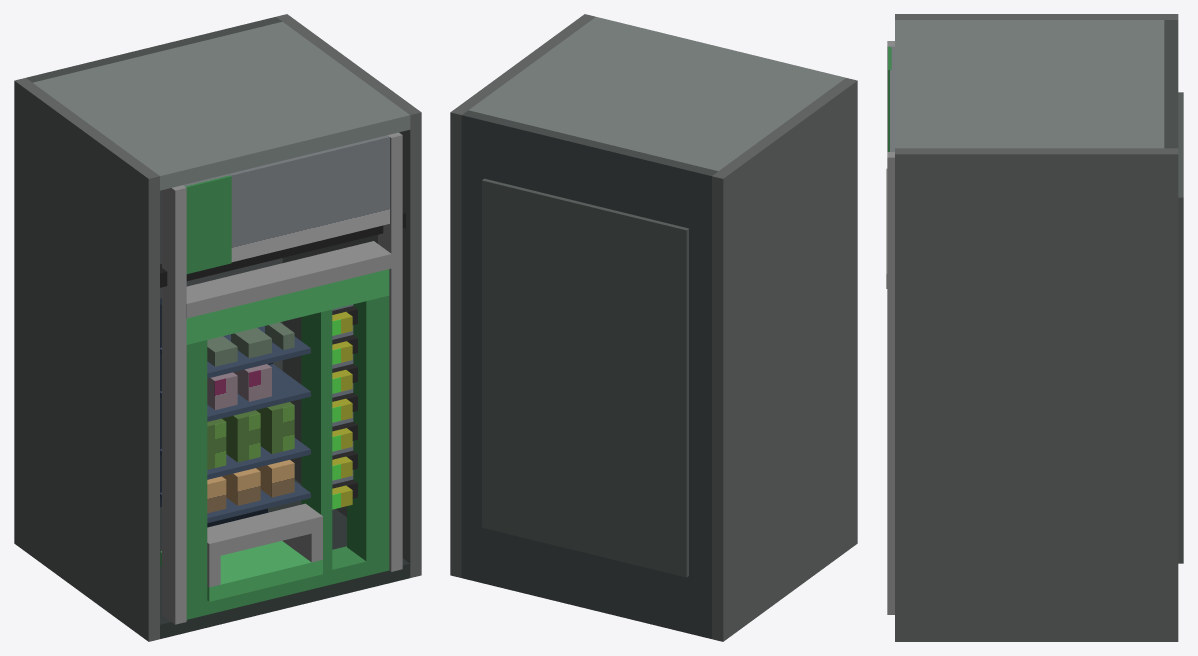
File: CMU3DVendorSeedsCloud.glb
3 views of the same model, side by side, from view 1: azimuth 30°, elevation 25°; view 2: azimuth 150°, elevation 25°; view 3: azimuth 270°, elevation 25° (orthographic). The views are drawn at different scales.
Visible parts, largest first — view 1: left full depth chassis, solid roof, blank gray header original detail, right full depth chassis, left silver rail, door right green stile, main silver door top, stock right green separator, right silver rail, door left green stile, main green door top, bottom support (+23 smaller); view 2: rear removable cover, left full depth chassis, rear enclosed shell, solid roof, right full depth chassis; view 3: right full depth chassis, solid roof, right silver rail, rear removable cover, rear enclosed shell, left full depth chassis, blank gray header.
Boxes of the visible parts, <box> form: left full depth chassis: <box>14,78,159,641</box>; solid roof: <box>33,21,410,190</box>; blank gray header original detail: <box>185,137,389,262</box>; right full depth chassis: <box>276,14,421,577</box>; left silver rail: <box>162,185,186,624</box>; door right green stile: <box>347,295,389,573</box>; main silver door top: <box>186,241,391,318</box>; stock right green separator: <box>301,309,332,571</box>; right silver rail: <box>378,132,402,571</box>; door left green stile: <box>186,340,207,619</box>; main green door top: <box>186,269,389,344</box>; bottom support: <box>160,479,410,638</box>; rear removable cover: <box>482,178,688,577</box>; left full depth chassis: <box>712,78,857,641</box>; rear enclosed shell: <box>461,110,717,638</box>; solid roof: <box>469,17,845,171</box>; right full depth chassis: <box>450,14,595,577</box>; right full depth chassis: <box>895,148,1178,641</box>; solid roof: <box>895,20,1164,148</box>; right silver rail: <box>887,152,894,614</box>; rear removable cover: <box>1178,92,1183,563</box>; rear enclosed shell: <box>1164,20,1178,148</box>; left full depth chassis: <box>895,14,1178,19</box>; blank gray header: <box>890,46,894,151</box>.
Size of the model in its own units: 0.75 by 1.22 by 0.672.
27 materials, 7 textured.
